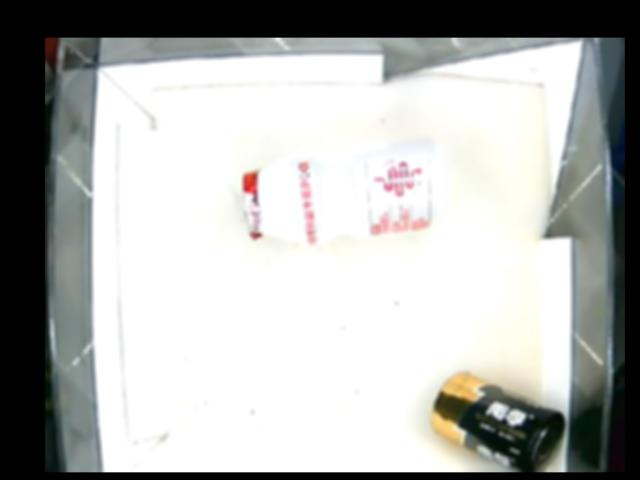Battery: (428, 368, 563, 472)
Bottle: (241, 135, 444, 248)
